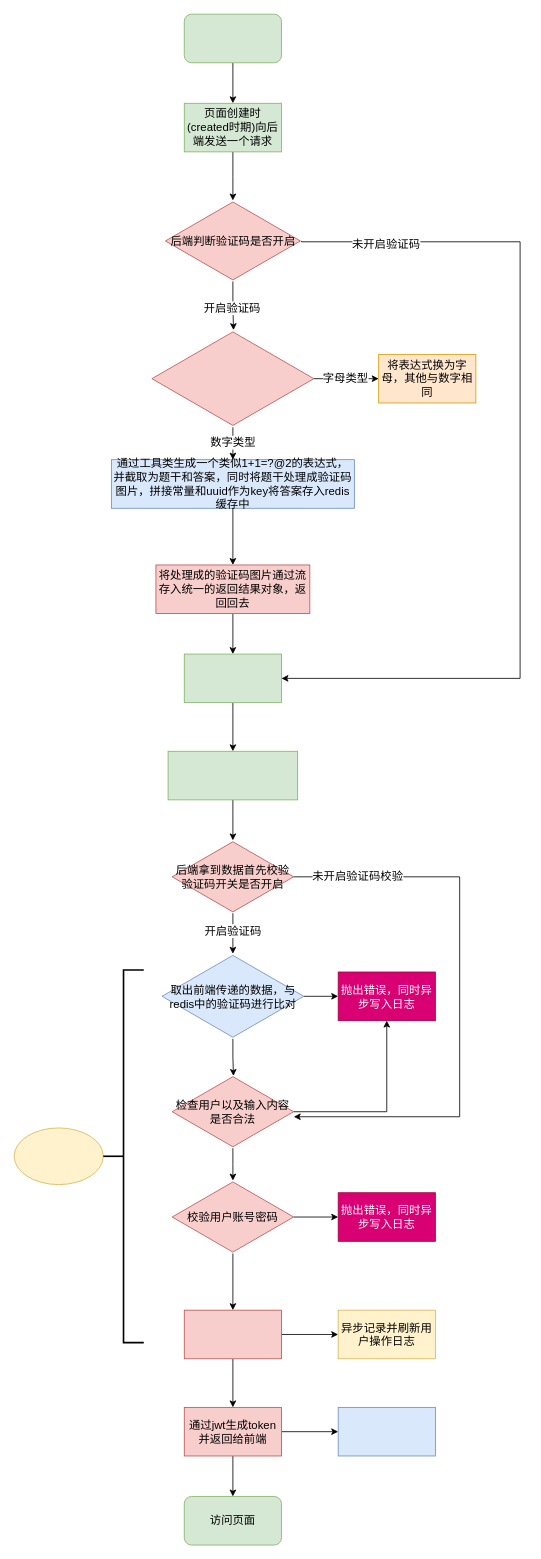
The diagram is 541 pixels wide and 1559 high, and some of its shapes have lost their labels. The shapes that lost their labels are listed below. From the top down, each one's centre as x and y in pixels, then its label:
At (x=232, y=38): "用户访问页面".
At (x=232, y=378): "后端读取配置文件判断验证码类型".
At (x=232, y=678): "前端通过返回的结果渲染页面".
At (x=232, y=775): "点击登录后，前端收集表单数据，封装为一个对象POST请求后端".
At (x=58, y=1156): "异步处理记录操作日志".
At (x=232, y=1334): "登录成功".
At (x=386, y=1431): "token存入reids中，有效期30分钟".
